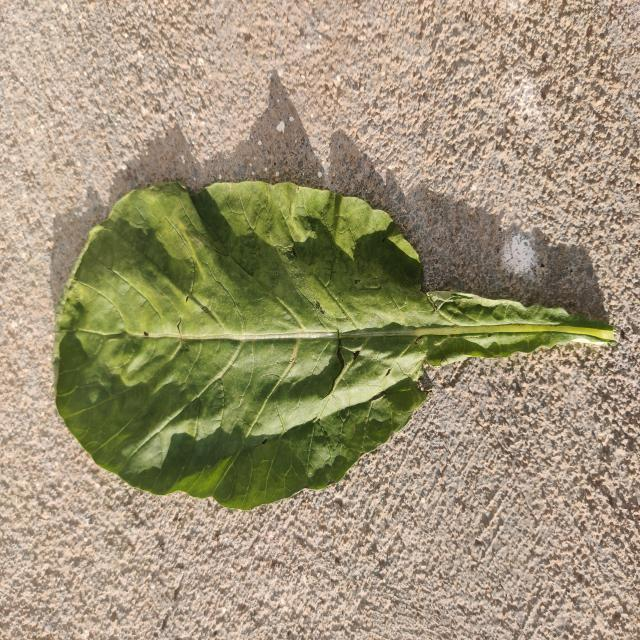leaf: (52, 177, 619, 510)
